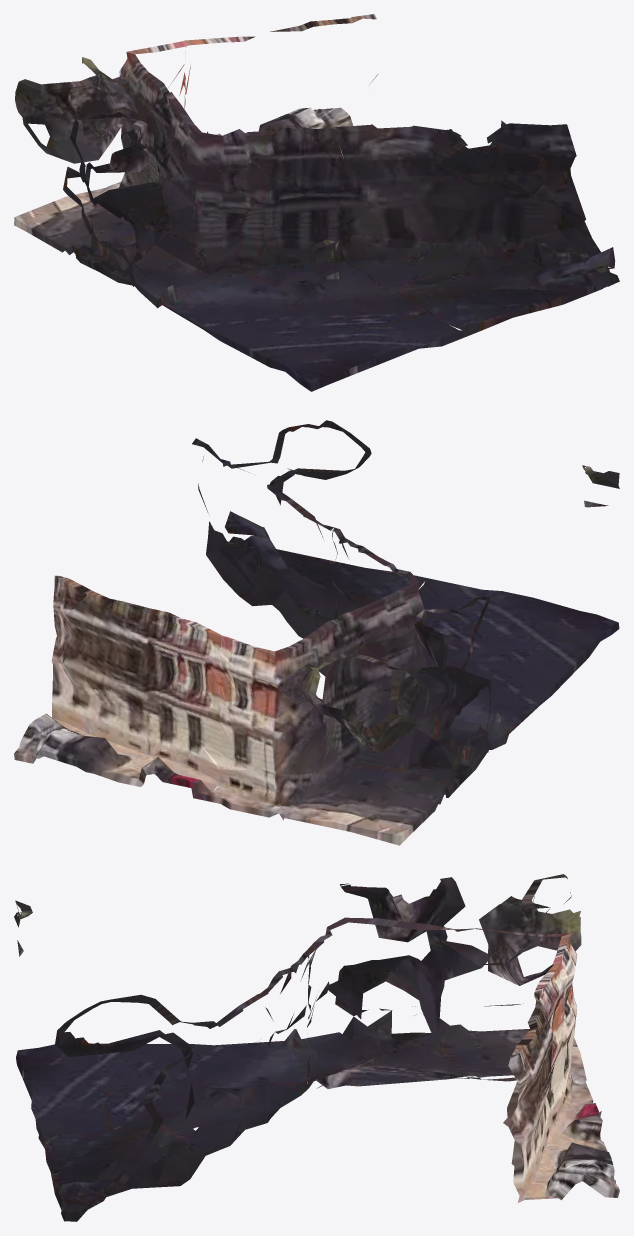
3 views of the same model, one above another, from view 1: azimuth 30°, elevation 25°; view 2: azimuth 150°, elevation 25°; view 3: azimuth 270°, elevation 25° (orthographic). The views are drawn at different scales.
Visible parts, largest first — view 1: Mesh_0; view 2: Mesh_0; view 3: Mesh_0.
Boxes of the visible parts, left/top/right/bottom form: Mesh_0: left=14, top=14, right=619, bottom=391; Mesh_0: left=14, top=420, right=619, bottom=845; Mesh_0: left=14, top=874, right=619, bottom=1221.
Size of the model in its own units: 33.42 by 12.66 by 41.48.
Materials: 1 (1 with a texture image).
